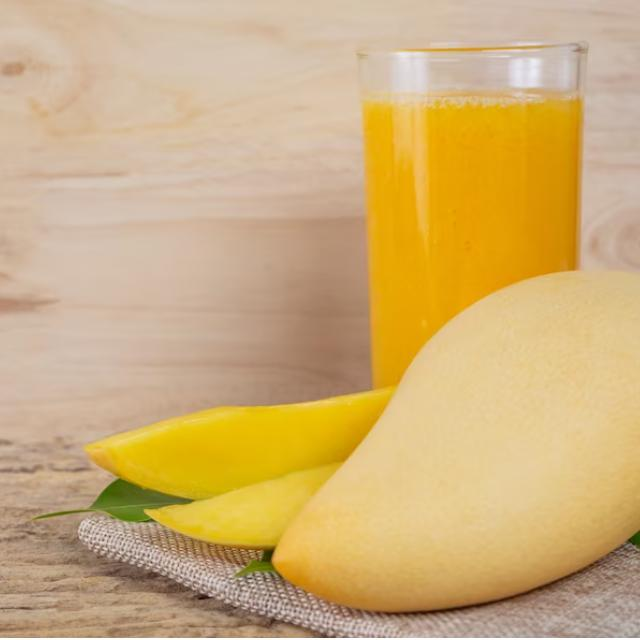mango: (268, 264, 640, 611)
